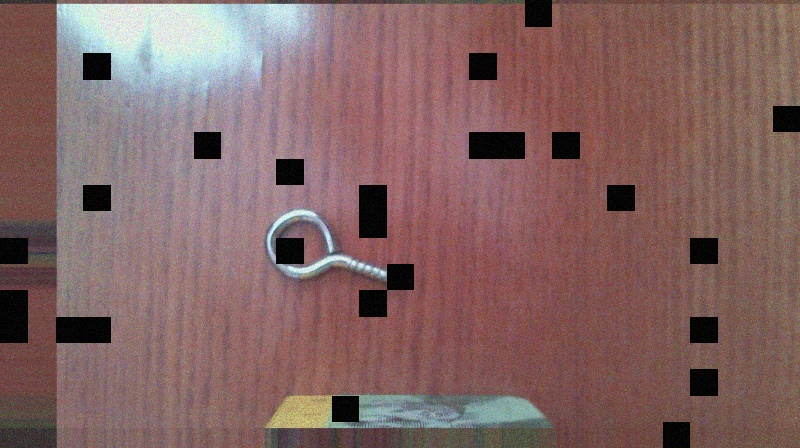O001: (256, 205, 411, 299)
